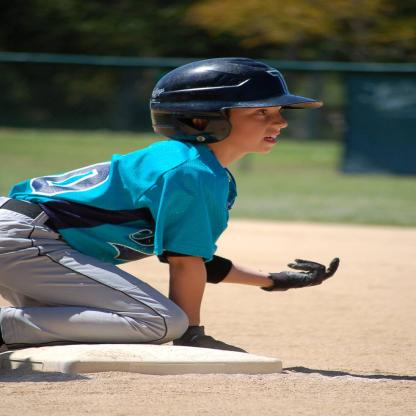Helmet: (148, 60, 310, 154)
